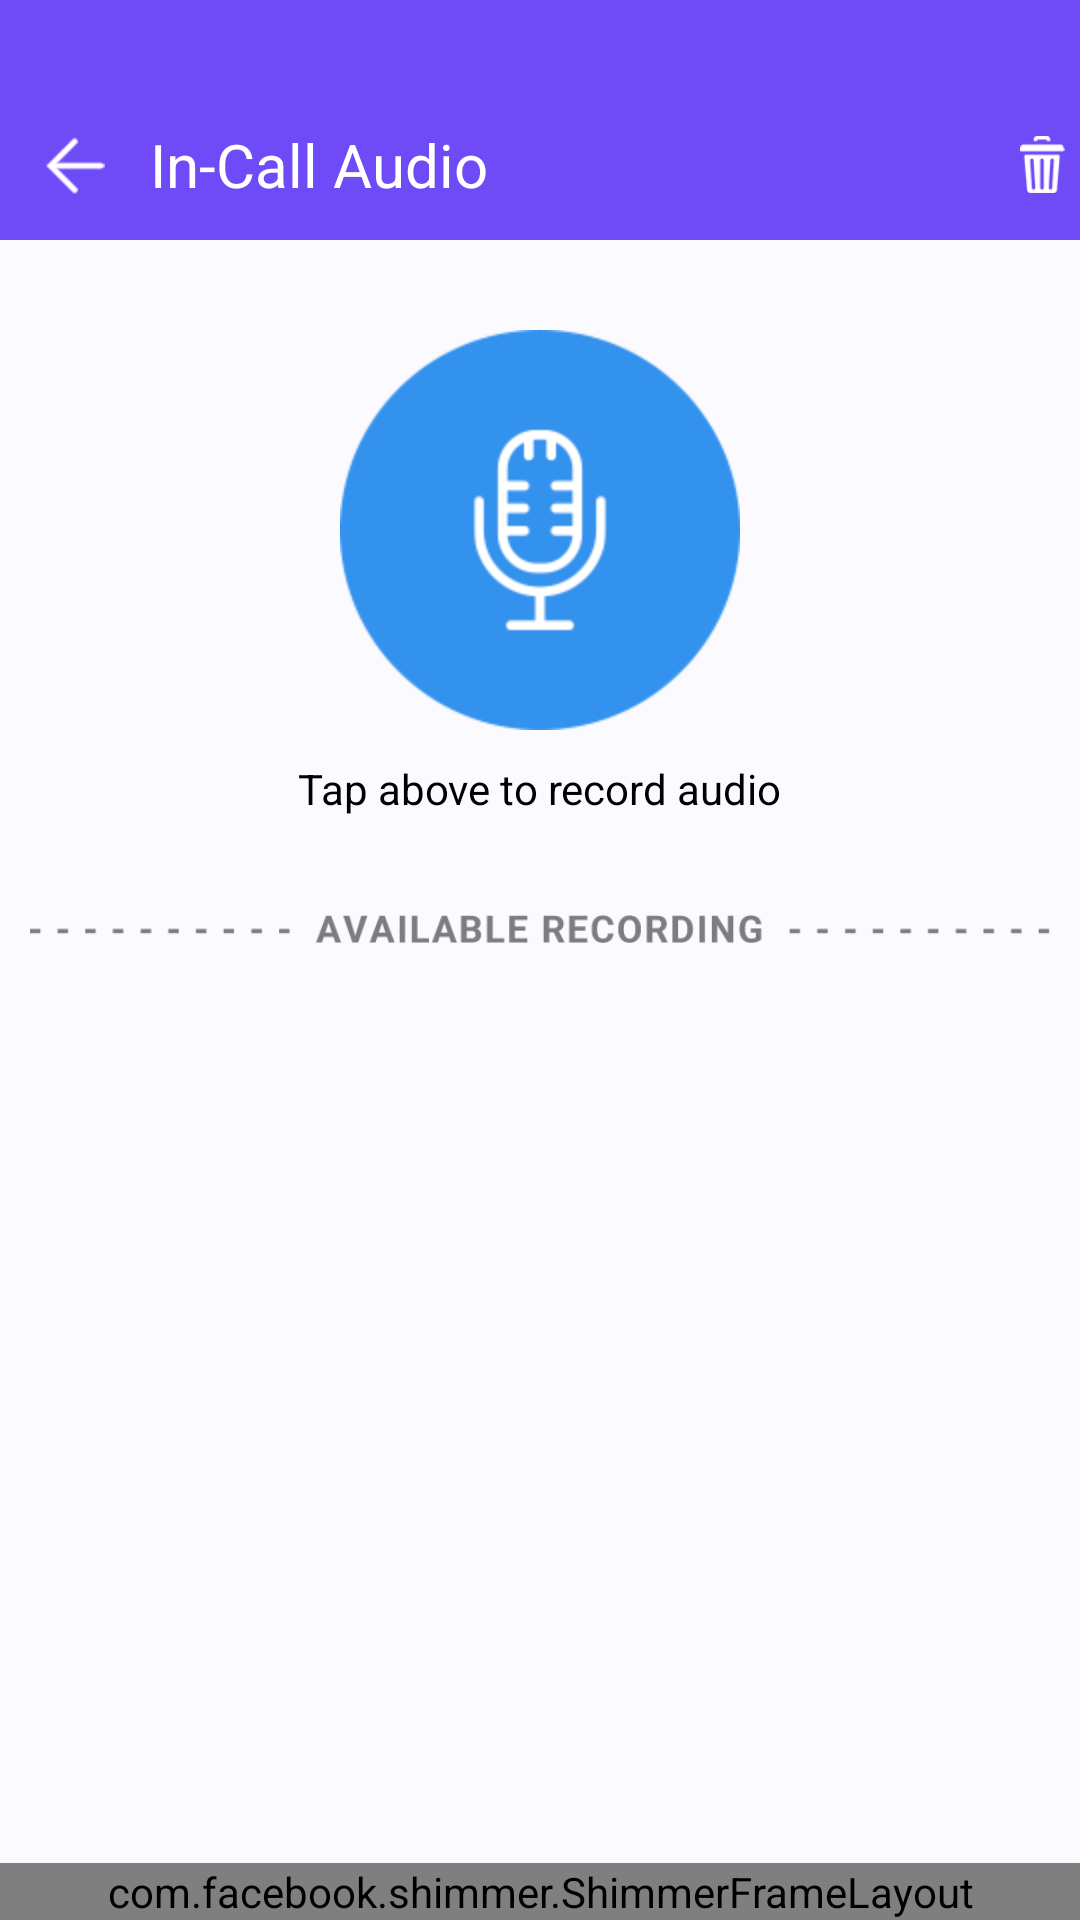

Screen size 1080px×1920px. Icon name, then its box in pixels as (x1, y1, x2, y2):
back: (46, 138, 105, 194)
delete: (1020, 136, 1065, 193)
